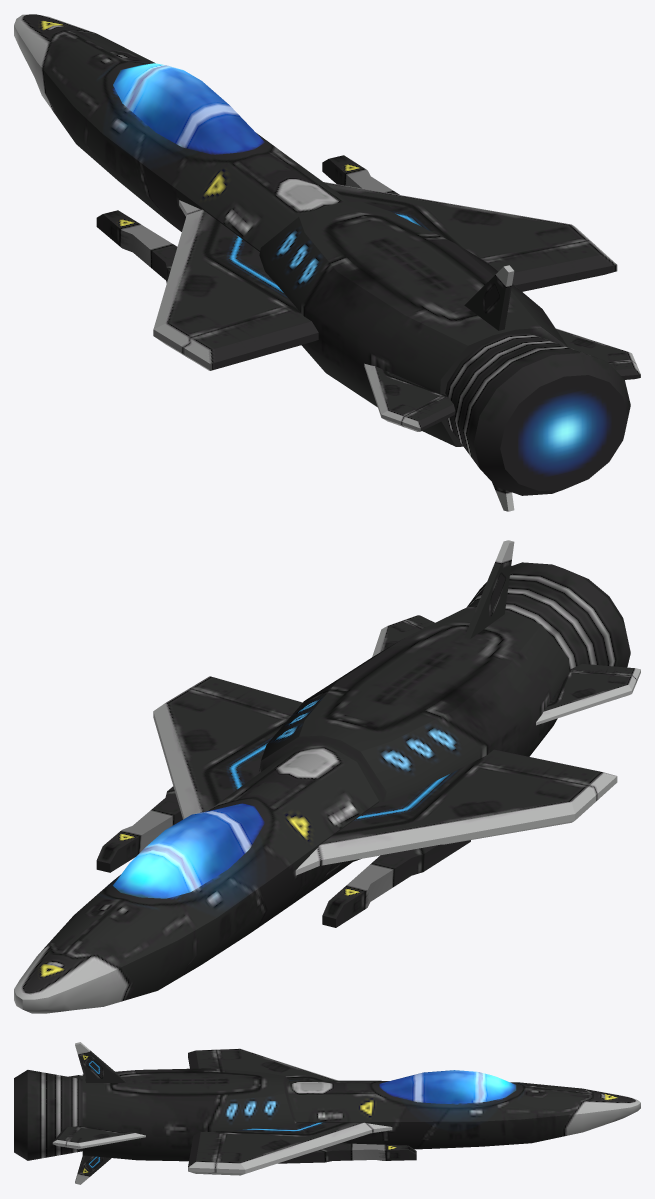
File: scout9.gltf
3 views of the same model, one above another, from view 1: azimuth 30°, elevation 25°; view 2: azimuth 150°, elevation 25°; view 3: azimuth 270°, elevation 25° (orthographic). The views are drawn at different scales.
Parts seen in each view (by area): view 1: scout9; view 2: scout9; view 3: scout9.
Boxes of the visible parts, x1,y1,x2,y2 form: scout9: (14, 14, 640, 511); scout9: (14, 540, 640, 1013); scout9: (14, 1042, 640, 1184).
Bounding box in the file's own units: 6.22 × 3.44 × 13.84.
1 material, 1 textured.
